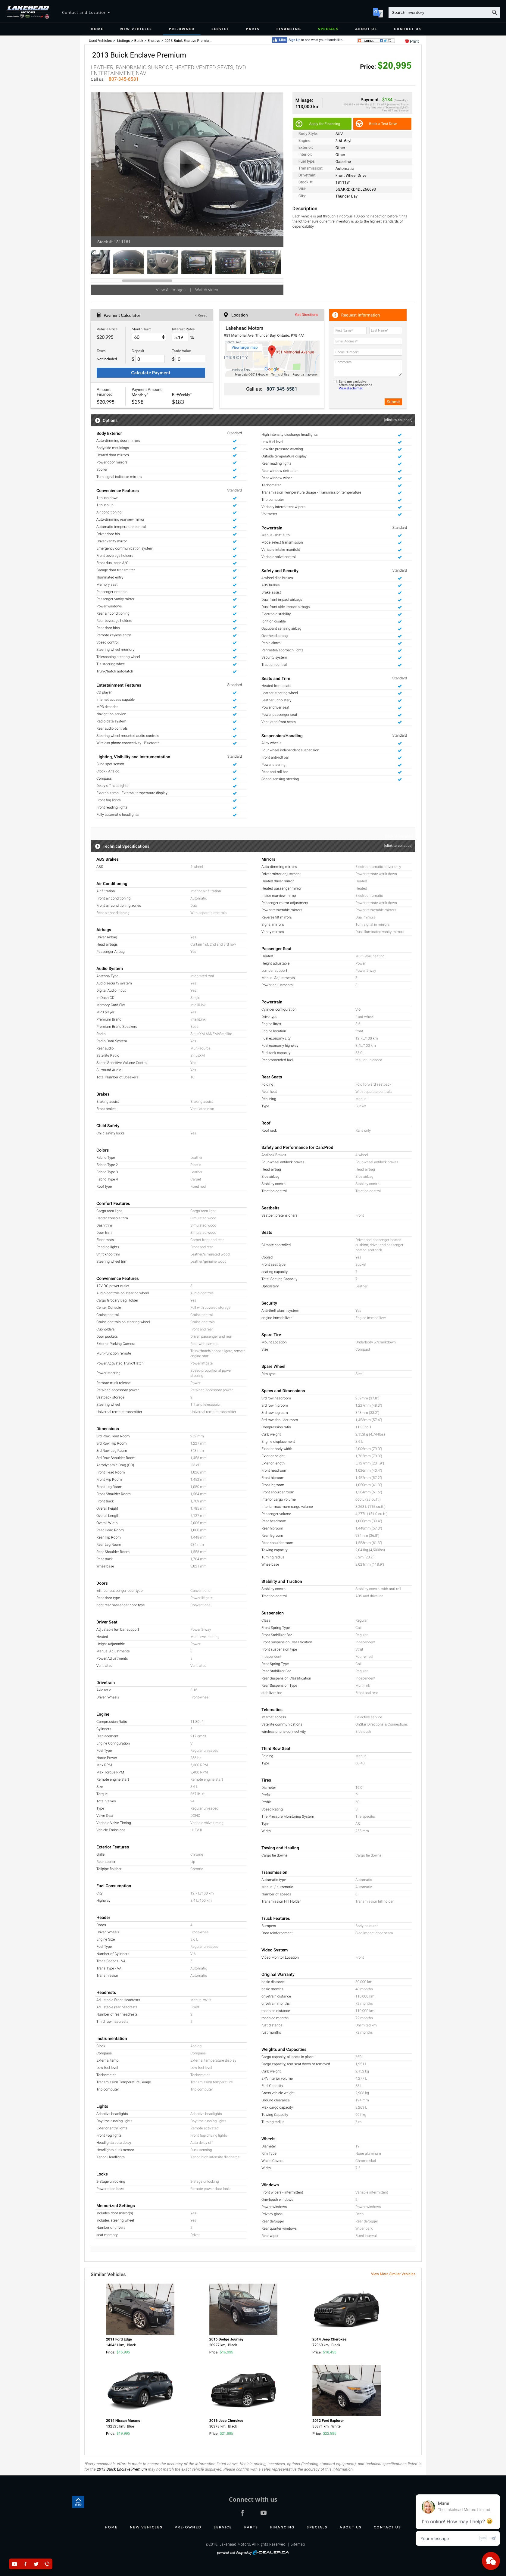car: (274, 161, 283, 169)
